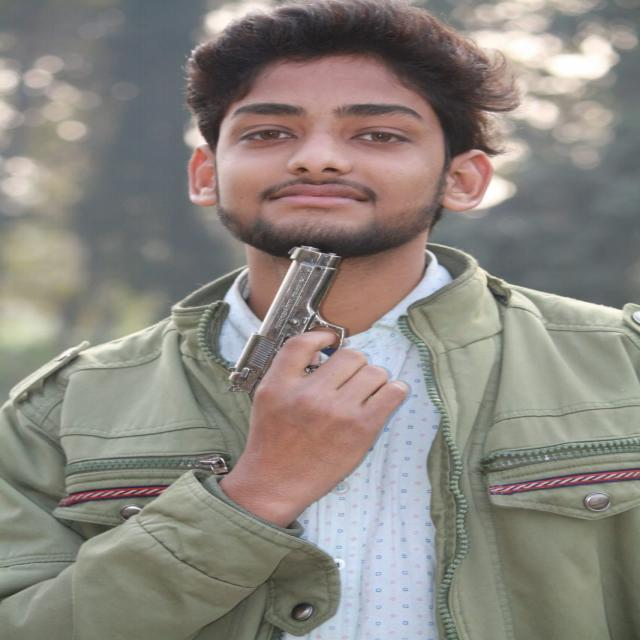Pistol: (224, 244, 408, 421)
